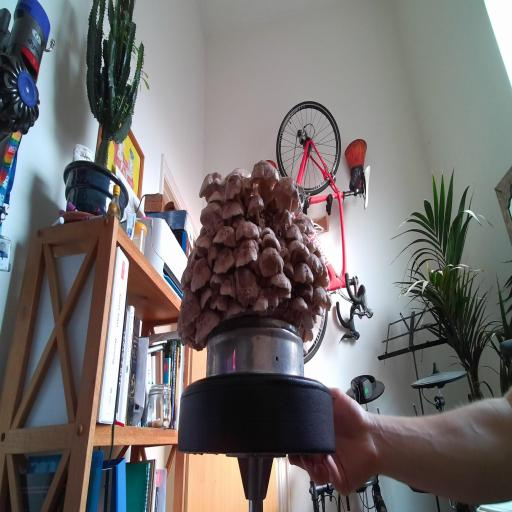Shiitake Mushroom: (240, 147, 291, 206), (167, 281, 214, 336), (183, 300, 228, 347), (178, 252, 222, 296), (191, 194, 231, 235), (212, 191, 252, 230), (204, 241, 242, 282), (265, 199, 299, 242), (226, 234, 266, 269), (286, 205, 323, 241), (241, 188, 273, 227), (234, 263, 260, 308), (256, 242, 285, 280), (285, 290, 314, 325), (272, 175, 300, 211), (249, 285, 283, 314), (302, 248, 329, 282), (292, 302, 318, 335), (199, 171, 227, 201), (221, 294, 251, 319), (245, 250, 269, 281), (225, 170, 245, 206), (292, 322, 320, 347), (288, 237, 311, 265), (194, 283, 217, 310), (193, 230, 215, 258), (291, 261, 317, 284), (212, 224, 238, 247), (203, 186, 229, 209), (266, 270, 292, 293), (237, 172, 254, 207), (234, 218, 261, 240), (174, 317, 200, 339), (203, 240, 222, 270), (278, 257, 300, 282), (308, 284, 328, 310), (259, 232, 284, 252), (175, 271, 194, 296), (208, 292, 231, 312), (220, 273, 237, 298), (275, 244, 296, 264), (312, 271, 334, 289), (319, 292, 336, 315), (297, 315, 318, 332), (228, 165, 252, 179), (286, 224, 303, 242), (298, 283, 314, 302), (274, 288, 293, 304), (209, 272, 224, 292), (257, 224, 277, 239), (275, 234, 290, 252), (311, 245, 324, 261), (196, 224, 210, 237), (306, 240, 318, 255), (311, 306, 324, 316), (190, 249, 199, 262), (185, 267, 193, 281), (180, 336, 191, 345)
